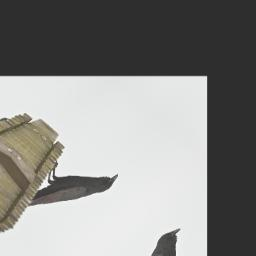Crow: (12, 142, 123, 232)
